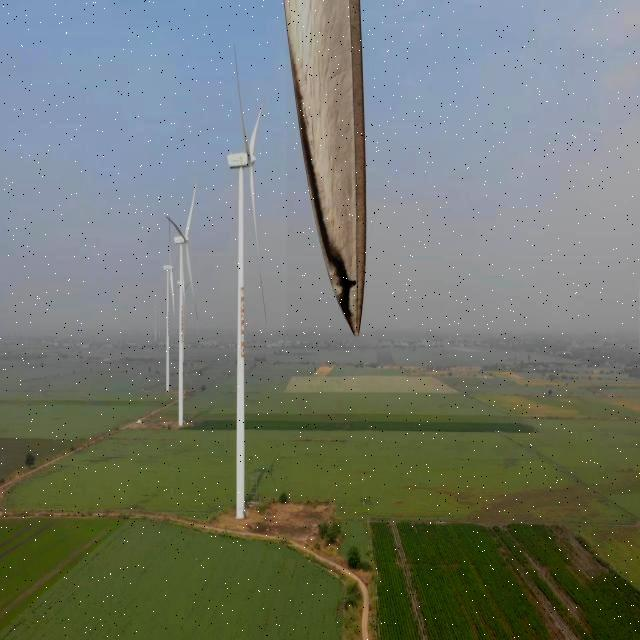Dirt: (283, 0, 374, 333)
Oil LEAKAGE: (285, 40, 363, 335)
